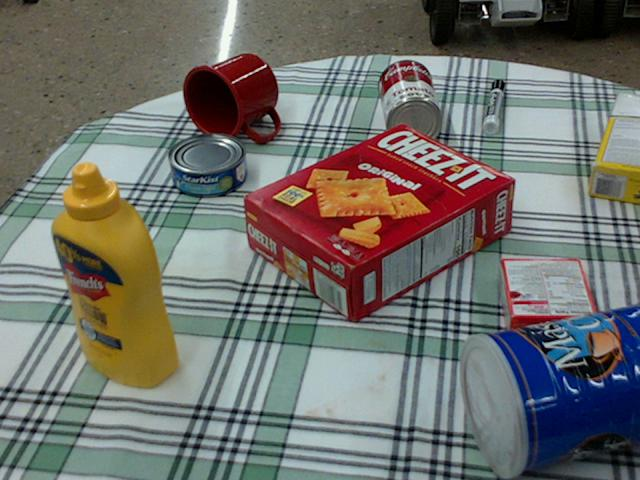cracker_box: (243, 124, 515, 322)
gelatin_box: (498, 257, 597, 336)
large_marker: (482, 79, 505, 132)
master_chef_can: (460, 300, 639, 479)
mug: (181, 53, 278, 140)
mustard_bottle: (51, 161, 179, 386)
sugar_box: (590, 92, 639, 204)
tomato_soup_can: (377, 58, 441, 146)
tuna_fish_can: (166, 132, 245, 195)
